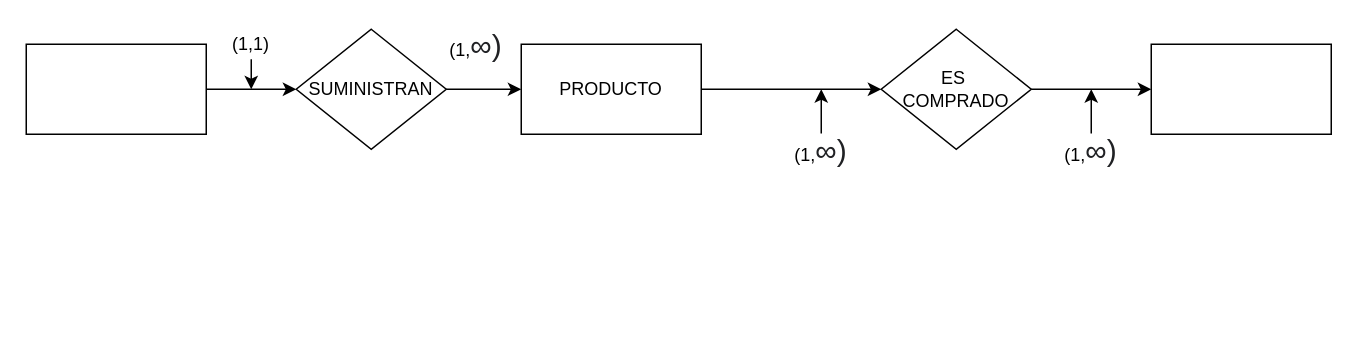
Image size: 1358x353. Some labels were removed from this diagram. The shapes that lost their labels are listed below. From the top down, each one's centre as x and y in pixels, then its label:
At (115,88): "PROOVEDORES".
At (1240,88): "CLIENTES".
